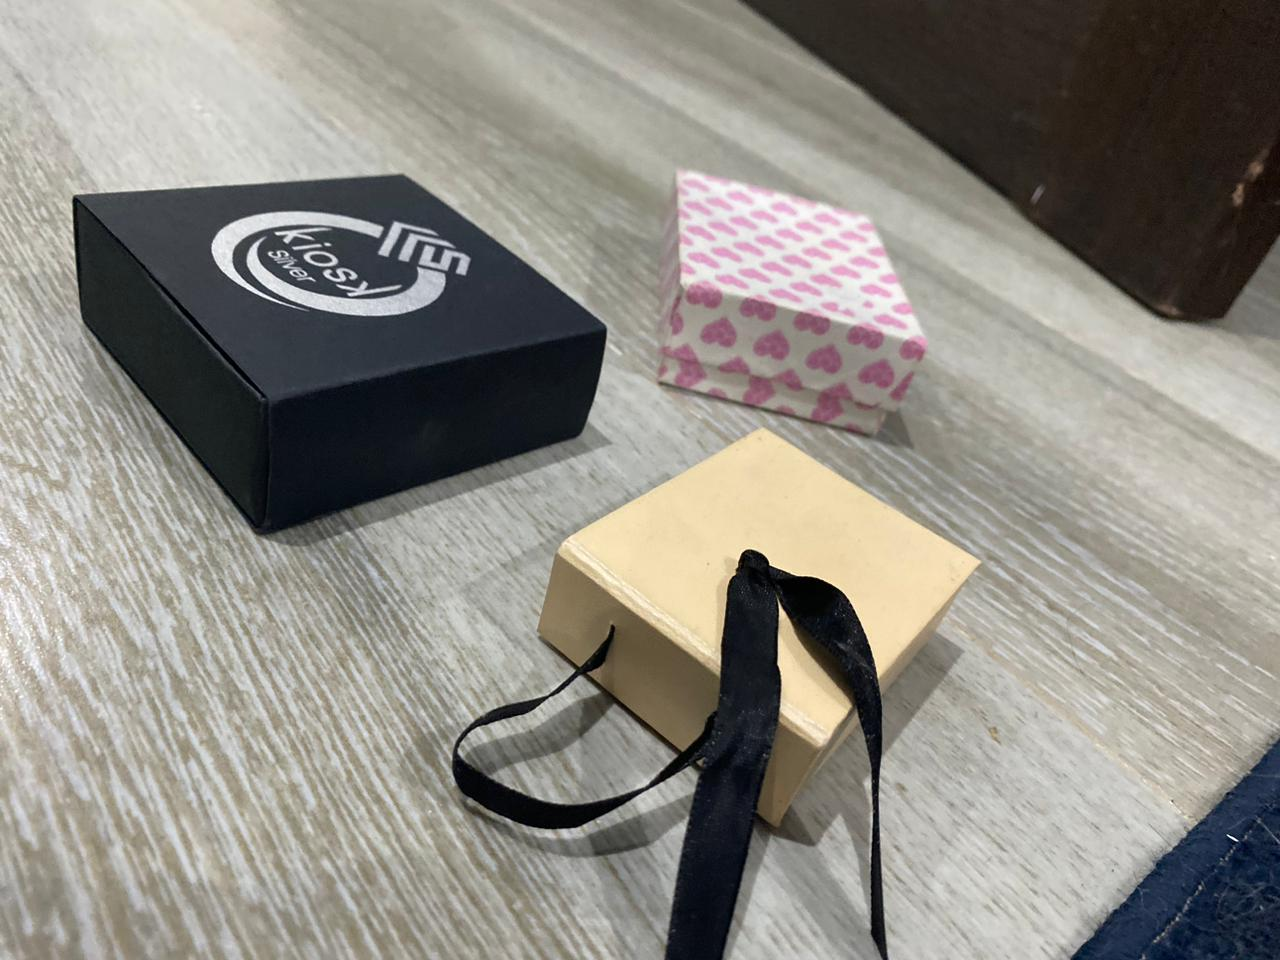Pink Box: (659, 166, 931, 440)
Red Box: (55, 168, 611, 541)
Yellow Box: (536, 427, 983, 839)
